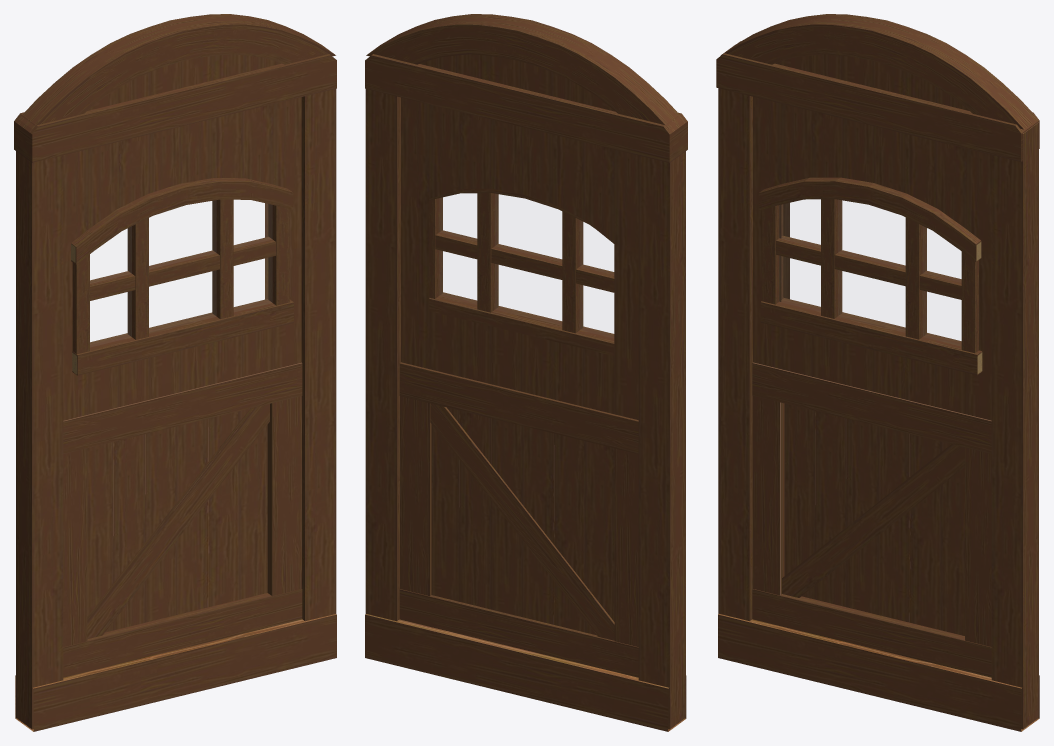
Rendered from Door_1_Round.glb.
3 views of the same model, side by side, from view 1: azimuth 30°, elevation 25°; view 2: azimuth 150°, elevation 25°; view 3: azimuth 330°, elevation 25° (orthographic).
Visible parts, largest first — view 1: Door_1_Round; view 2: Door_1_Round; view 3: Door_1_Round.
Boxes of the visible parts, x1,y1,x2,y2 form: Door_1_Round: [14, 14, 336, 731]; Door_1_Round: [365, 14, 687, 731]; Door_1_Round: [716, 14, 1039, 731].
Size of the model in its own units: 1.12 by 2.32 by 0.1207.
2 materials, 1 textured.
